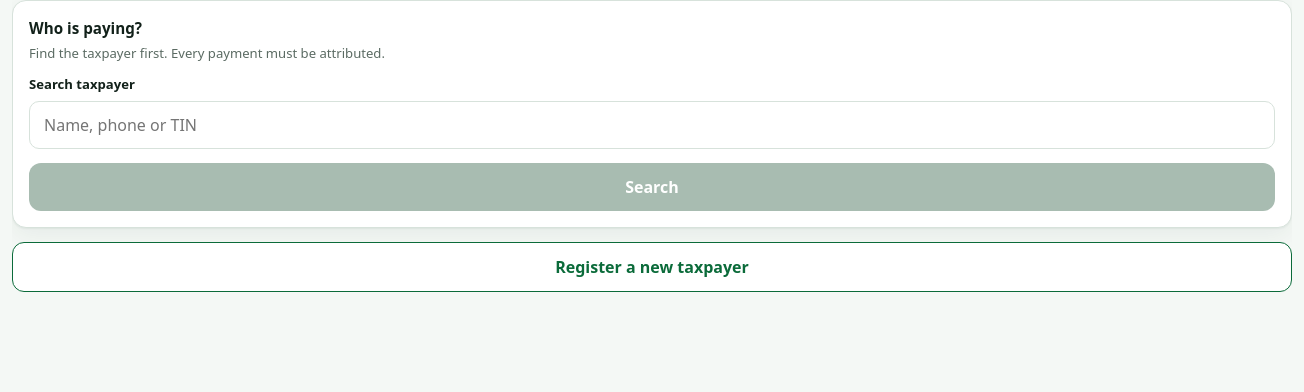
Test: finding the taxpayer before taking a payment › still lists the people it does find
In the search field labelled "Search taxpayer": (652,125) x1=29 y1=101 x2=1275 y2=149, type "Ladi"
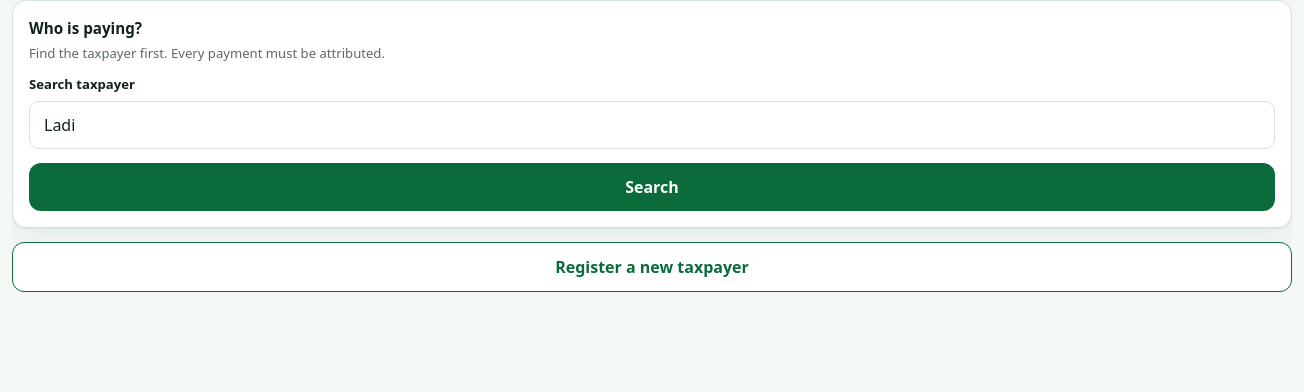
Click the button "Search": (652,187) x1=29 y1=163 x2=1275 y2=211
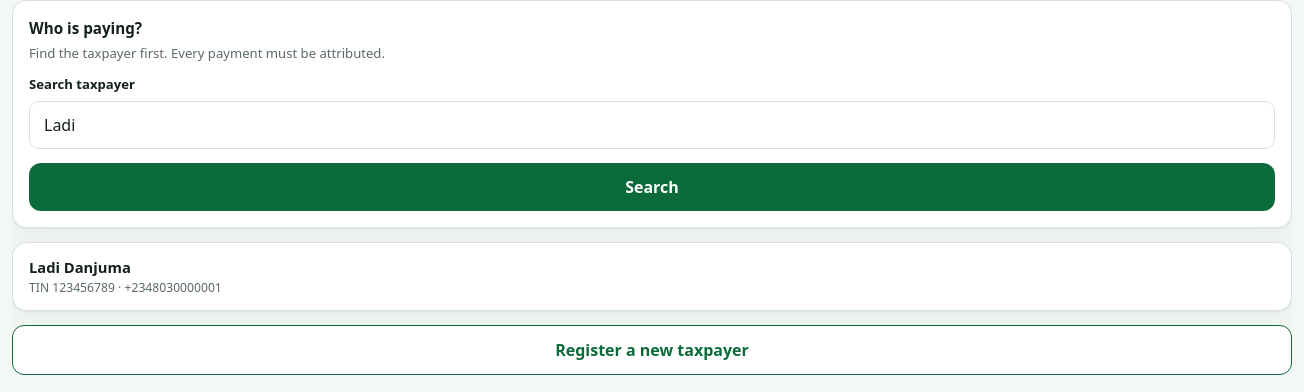
Expected: the text "Ladi Danjuma" is shown, x1=29 y1=257 x2=131 y2=277
